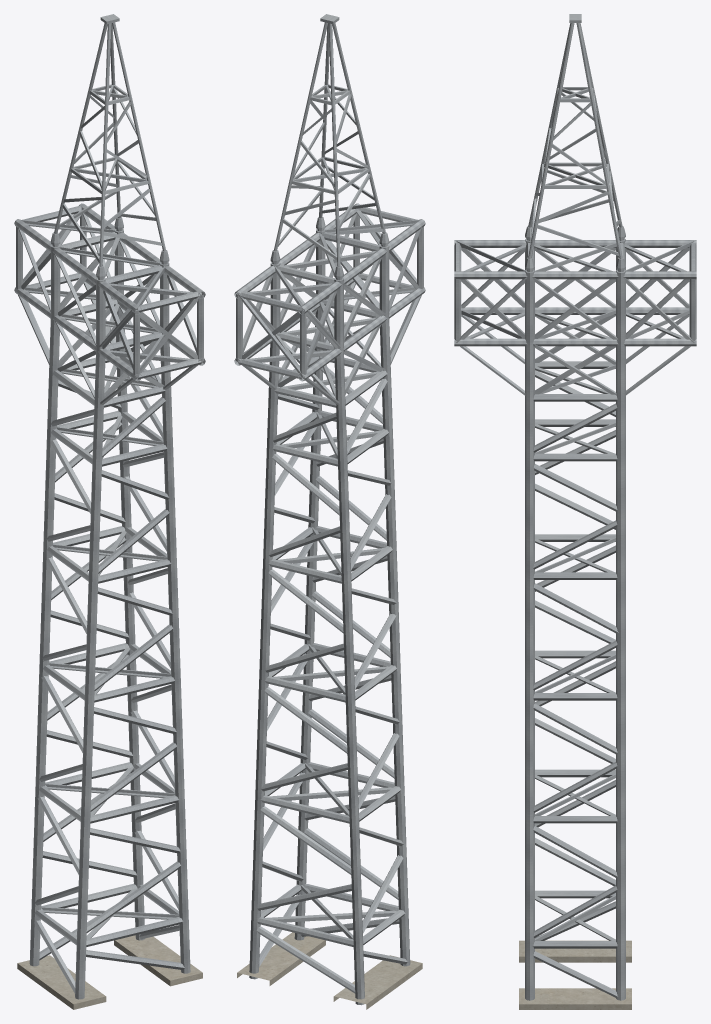
The model's file is tower003.FBX.
The picture shows the model from 3 angles, left to right: view 1: azimuth 30°, elevation 25°; view 2: azimuth 150°, elevation 25°; view 3: azimuth 270°, elevation 25°; orthographic projection.
Parts seen in each view (by area): view 1: tower003 (×2); view 2: tower003 (×2); view 3: tower003 (×2).
Part boxes in pixels (<box>): tower003 (×2): <box>14,14,205,1009</box>; tower003 (×2): <box>234,14,425,1009</box>; tower003 (×2): <box>454,14,696,1009</box>.
Size of the model in its own units: 599 by 4226 by 966.
